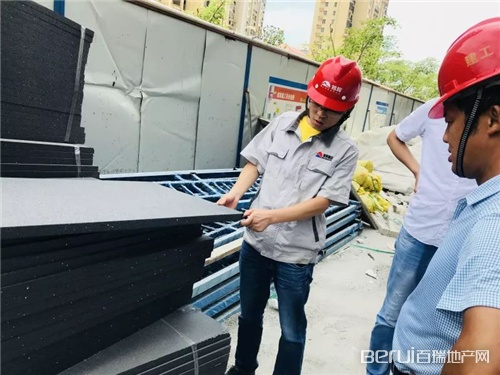red: (430, 16, 500, 180), (304, 54, 362, 131)
